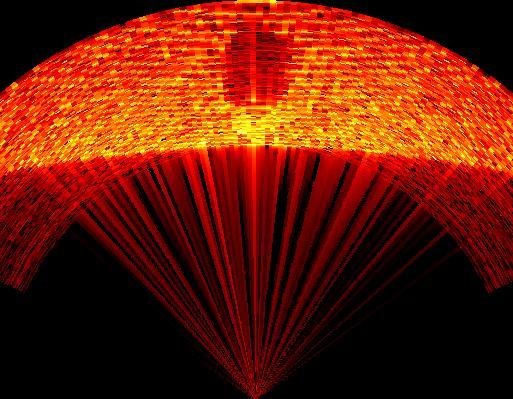box_crate: (215, 22, 299, 141)
